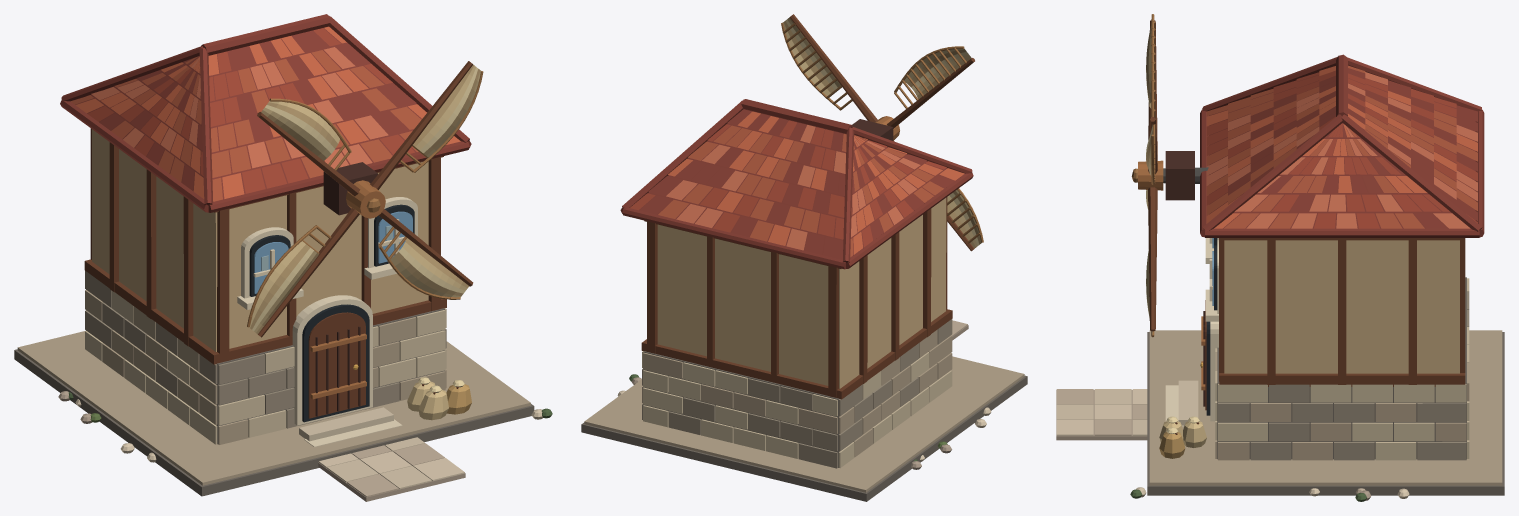
The model's file is windmill-nivel-2.glb.
3 renders of one model, left to right at view 1: azimuth 30°, elevation 25°; view 2: azimuth 150°, elevation 25°; view 3: azimuth 270°, elevation 25°, orthographic. The views are drawn at different scales.
Parts seen in each view (by area): view 1: Moinho de vento 02 #ccaf84, Moinho de vento 02 #b4a38a, Moinho de vento 02 #853e33, Moinho de vento 02 #70432c, Moinho de vento 02 #cebea0, Moinho de vento 02 #a8563c, Moinho de vento 02 #9b8f7c, Moinho de vento 02 #746c62, Moinho de vento 02 #bf6243, Moinho de vento 02 #9b4735, Moinho de vento 02 #e6d7ba, Moinho de vento 02 #c06b4f (+16 smaller); view 2: Moinho de vento 02 #ccaf84, Moinho de vento 02 #b4a38a, Moinho de vento 02 #853e33, Moinho de vento 02 #70432c, Moinho de vento 02 #cebea0, Moinho de vento 02 #9b8f7c, Moinho de vento 02 #a8563c, Moinho de vento 02 #746c62, Moinho de vento 02 #9b4735, Moinho de vento 02 #bf6243, Moinho de vento 02 #c06b4f, Pás do moinho #9f7145.001 (+5 smaller); view 3: Moinho de vento 02 #ccaf84, Moinho de vento 02 #b4a38a, Moinho de vento 02 #853e33, Moinho de vento 02 #70432c, Moinho de vento 02 #a8563c, Moinho de vento 02 #9b4735, Moinho de vento 02 #cebea0, Moinho de vento 02 #9b8f7c, Moinho de vento 02 #c06b4f, Moinho de vento 02 #746c62, Moinho de vento 02 #bf6243, Moinho de vento 02 #d3c3a9 (+12 smaller).
Part boxes in pixels (bbox=[...]): Moinho de vento 02 #ccaf84: bbox=[92, 129, 428, 351]; Moinho de vento 02 #b4a38a: bbox=[17, 290, 530, 485]; Moinho de vento 02 #853e33: bbox=[60, 14, 471, 212]; Moinho de vento 02 #70432c: bbox=[84, 128, 458, 418]; Moinho de vento 02 #cebea0: bbox=[85, 291, 446, 444]; Moinho de vento 02 #a8563c: bbox=[70, 50, 421, 201]; Moinho de vento 02 #9b8f7c: bbox=[85, 270, 446, 428]; Moinho de vento 02 #746c62: bbox=[14, 308, 534, 496]; Moinho de vento 02 #bf6243: bbox=[76, 26, 460, 198]; Moinho de vento 02 #9b4735: bbox=[87, 28, 414, 193]; Moinho de vento 02 #e6d7ba: bbox=[237, 197, 417, 447]; Moinho de vento 02 #c06b4f: bbox=[91, 47, 388, 168]; Moinho de vento 02 #ccaf84: bbox=[657, 198, 946, 388]; Moinho de vento 02 #b4a38a: bbox=[584, 329, 1024, 492]; Moinho de vento 02 #853e33: bbox=[620, 99, 973, 269]; Moinho de vento 02 #70432c: bbox=[641, 197, 952, 399]; Moinho de vento 02 #cebea0: bbox=[642, 351, 952, 467]; Moinho de vento 02 #9b8f7c: bbox=[642, 319, 952, 468]; Moinho de vento 02 #a8563c: bbox=[658, 125, 943, 257]; Moinho de vento 02 #746c62: bbox=[581, 351, 1027, 501]; Moinho de vento 02 #9b4735: bbox=[630, 120, 946, 247]; Moinho de vento 02 #bf6243: bbox=[668, 111, 964, 254]; Moinho de vento 02 #c06b4f: bbox=[666, 125, 920, 250]; Pás do moinho #9f7145.001: bbox=[781, 22, 983, 243]; Moinho de vento 02 #ccaf84: bbox=[1224, 240, 1459, 373]; Moinho de vento 02 #b4a38a: bbox=[1149, 330, 1502, 485]; Moinho de vento 02 #853e33: bbox=[1200, 54, 1484, 237]; Moinho de vento 02 #70432c: bbox=[1175, 238, 1465, 434]; Moinho de vento 02 #a8563c: bbox=[1206, 65, 1477, 228]; Moinho de vento 02 #9b4735: bbox=[1206, 71, 1477, 228]; Moinho de vento 02 #cebea0: bbox=[1215, 278, 1469, 460]; Moinho de vento 02 #9b8f7c: bbox=[1218, 292, 1469, 460]; Moinho de vento 02 #c06b4f: bbox=[1206, 72, 1477, 228]; Moinho de vento 02 #746c62: bbox=[1147, 277, 1504, 495]; Moinho de vento 02 #bf6243: bbox=[1206, 66, 1477, 228]; Moinho de vento 02 #d3c3a9: bbox=[1056, 380, 1198, 497].
Size of the model in its own units: 6.21 by 6.13 by 6.89.
